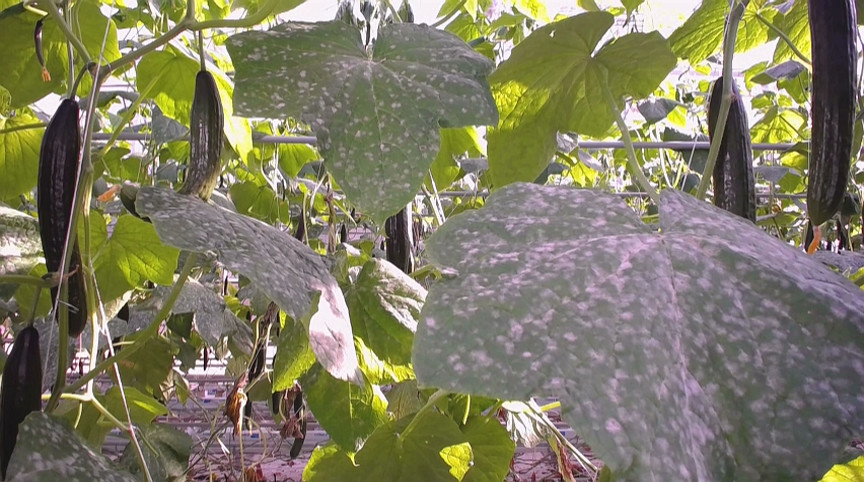cucumber: (121, 70, 225, 222), (805, 1, 859, 226), (37, 99, 86, 336), (708, 76, 756, 224), (1, 327, 42, 471), (386, 202, 415, 273)
